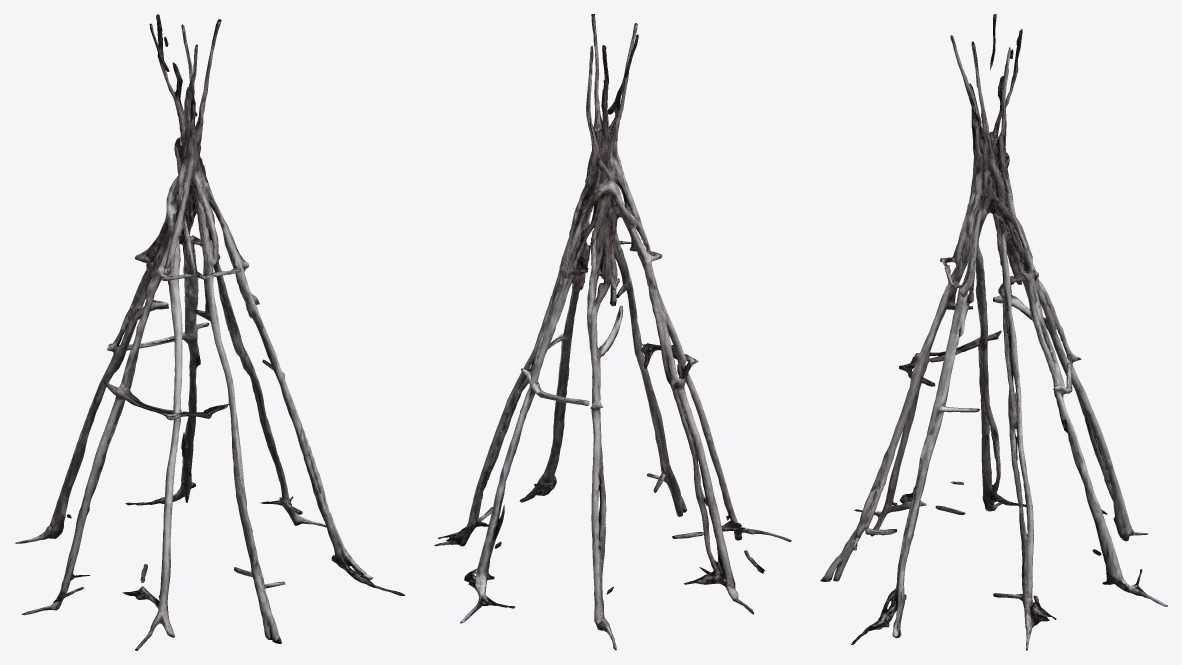
The model's file is sculpt11.glb.
3 views of the same model, side by side, from view 1: azimuth 30°, elevation 25°; view 2: azimuth 150°, elevation 25°; view 3: azimuth 270°, elevation 25° (orthographic). The views are drawn at different scales.
Visible parts, largest first — view 1: mesh; view 2: mesh; view 3: mesh.
Boxes of the visible parts, x1=… form: mesh: x1=15, y1=14, x2=404, y2=650; mesh: x1=434, y1=14, x2=791, y2=650; mesh: x1=820, y1=14, x2=1167, y2=650.
Size of the model in its own units: 0.5892 by 0.9988 by 0.5739.
1 material, 1 textured.
